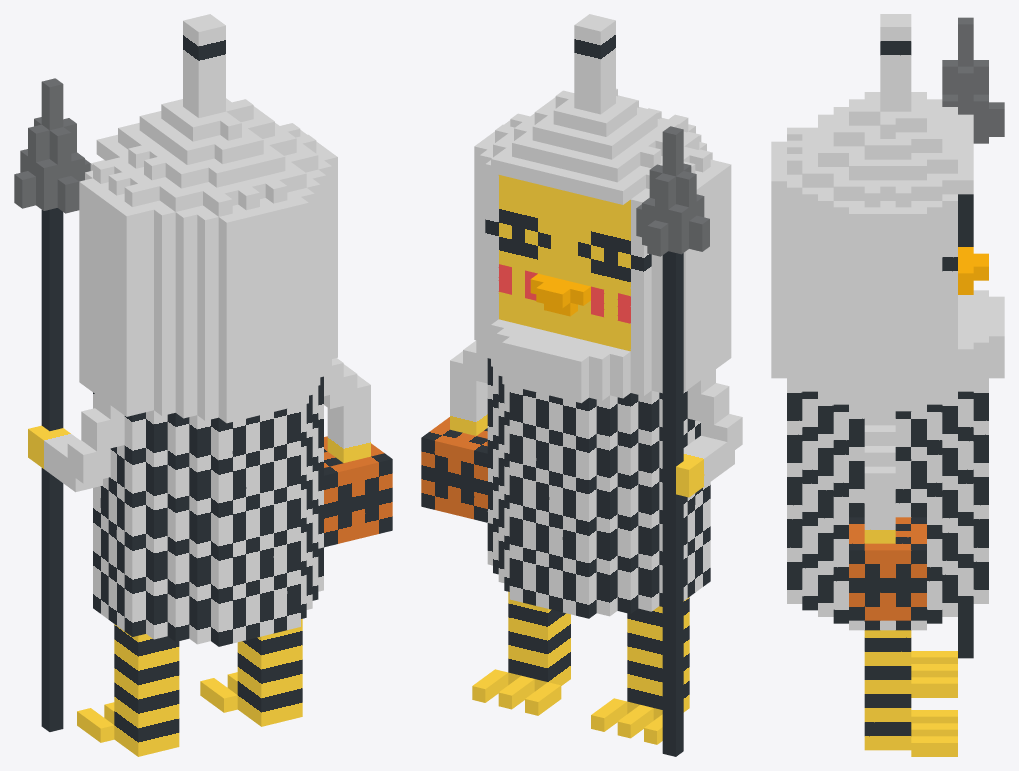
The model's file is 坤家军.gltf.
3 renders of one model, left to right at view 1: azimuth 30°, elevation 25°; view 2: azimuth 150°, elevation 25°; view 3: azimuth 270°, elevation 25°, orthographic. The views are drawn at different scales.
Parts seen in each view (by area): view 1: Object; view 2: Object; view 3: Object.
Boxes of the visible parts, <box> form: Object: <box>14,14,392,756</box>; Object: <box>421,14,742,756</box>; Object: <box>771,14,1004,756</box>.
Bounding box in the file's own units: 23 × 49 × 15.
1 material, 1 textured.
